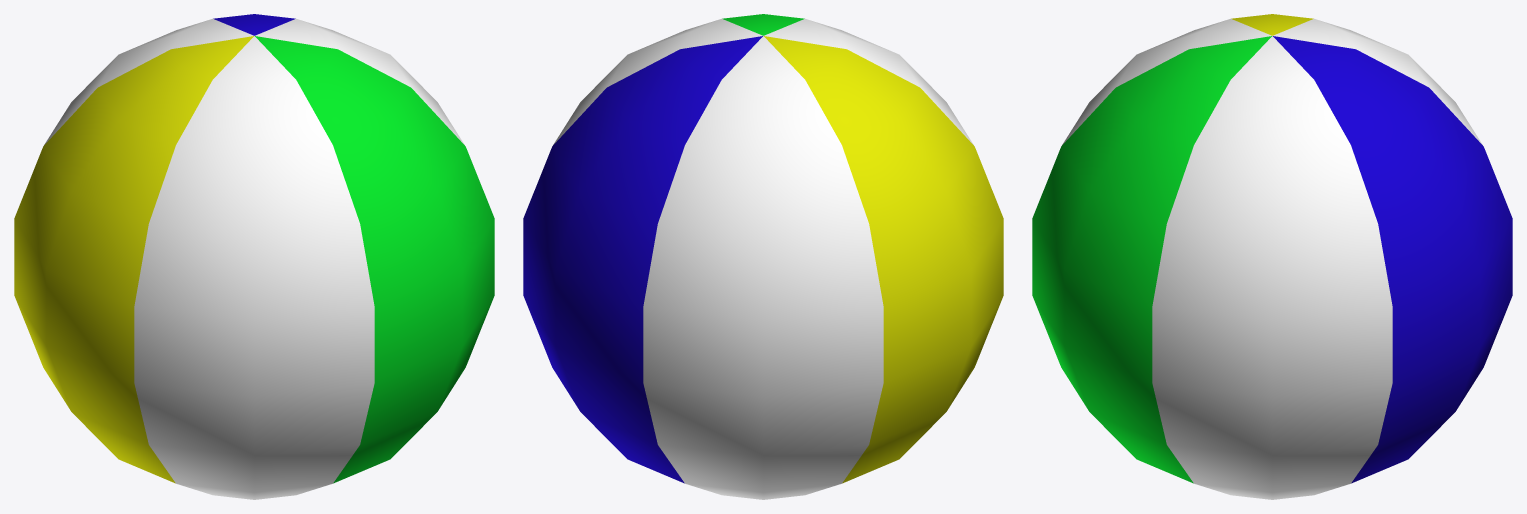
Rendered from Beach_ball.fbx.
The picture shows the model from 3 angles, left to right: view 1: azimuth 30°, elevation 25°; view 2: azimuth 150°, elevation 25°; view 3: azimuth 270°, elevation 25°; orthographic projection.
Parts seen in each view (by area): view 1: Sphere; view 2: Sphere; view 3: Sphere.
Boxes of the visible parts, bbox=[...] form: Sphere: bbox=[14, 14, 494, 499]; Sphere: bbox=[523, 14, 1003, 499]; Sphere: bbox=[1032, 14, 1512, 499].
Bounding box in the file's own units: 5.91 × 6 × 5.91.
